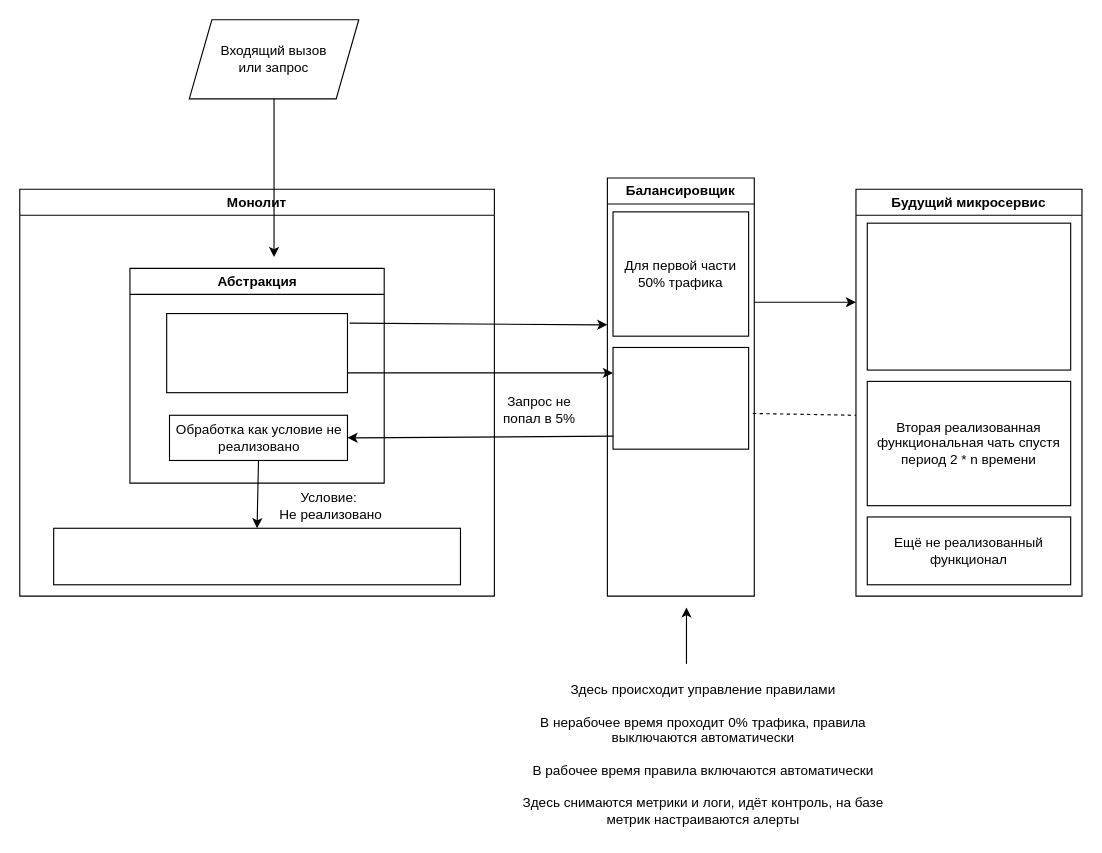
The diagram is 1102 pixels wide and 853 high, and some of its shapes have lost their labels. The box of each missing label's shape, as (x1, y1, x2, y2) in pixels:
Для второй части 5% трафика: (612, 346, 749, 449)
Первая реализованная функциональная чать спустя период n времени: (866, 222, 1071, 370)
Условная логика, логика перехвата в зависимости от степени текущей реализации: (166, 312, 347, 393)
Часть функционала, которую можно представить микросервисом: (53, 527, 460, 585)
